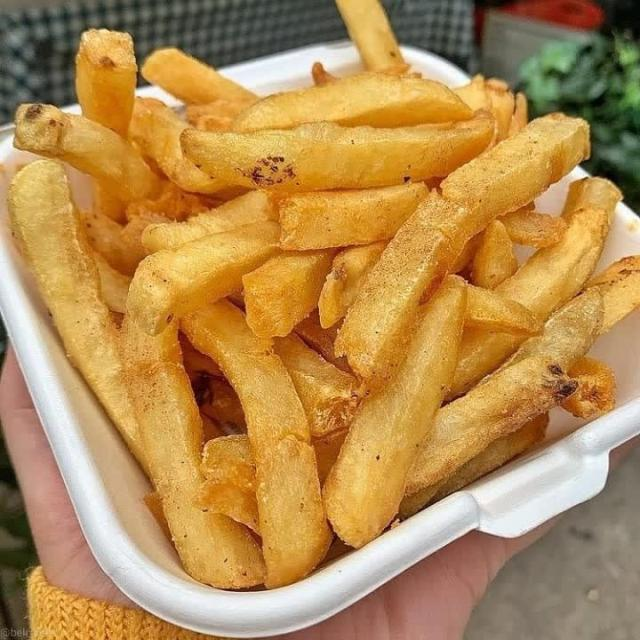potato fries: (10, 0, 639, 588), (183, 301, 330, 586), (9, 160, 146, 465), (324, 277, 466, 547), (123, 317, 264, 588), (336, 196, 460, 386), (407, 357, 577, 495), (182, 116, 493, 191), (441, 114, 590, 235), (496, 179, 620, 319), (128, 222, 279, 335), (400, 414, 548, 519), (15, 104, 159, 201), (233, 73, 472, 131), (278, 183, 429, 249), (129, 98, 225, 193), (274, 334, 359, 438), (501, 290, 604, 370), (143, 192, 277, 253), (242, 250, 335, 336), (76, 30, 137, 136), (141, 48, 256, 104), (197, 436, 259, 535), (319, 242, 386, 327), (336, 0, 403, 71), (587, 256, 639, 332), (465, 286, 542, 335), (80, 211, 139, 274), (195, 480, 260, 535), (295, 311, 351, 372), (562, 358, 616, 419), (472, 220, 518, 289), (203, 435, 255, 490), (500, 208, 566, 247), (94, 252, 131, 313), (312, 430, 347, 486), (185, 98, 247, 126), (487, 80, 514, 142), (454, 75, 491, 111), (144, 492, 171, 540), (508, 93, 528, 136), (312, 62, 336, 86)
